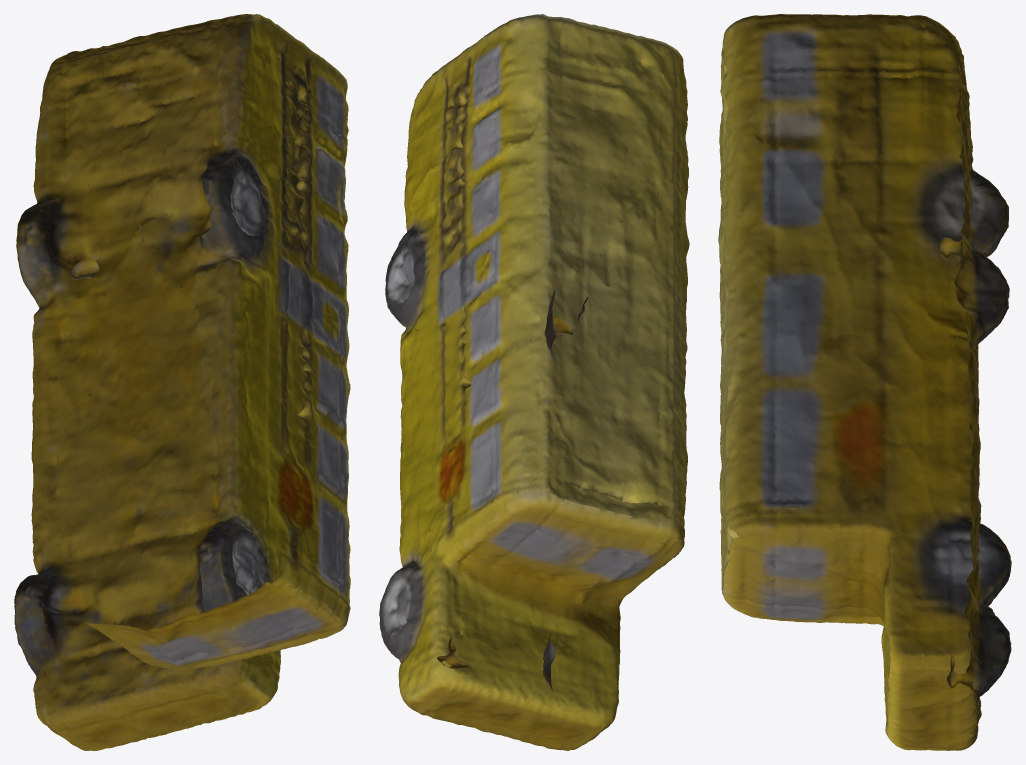
The model's file is school_bus1.glb.
3 views of the same model, side by side, from view 1: azimuth 30°, elevation 25°; view 2: azimuth 150°, elevation 25°; view 3: azimuth 270°, elevation 25° (orthographic). The views are drawn at different scales.
Size of the model in its own units: 0.3377 by 1 by 0.4025.
